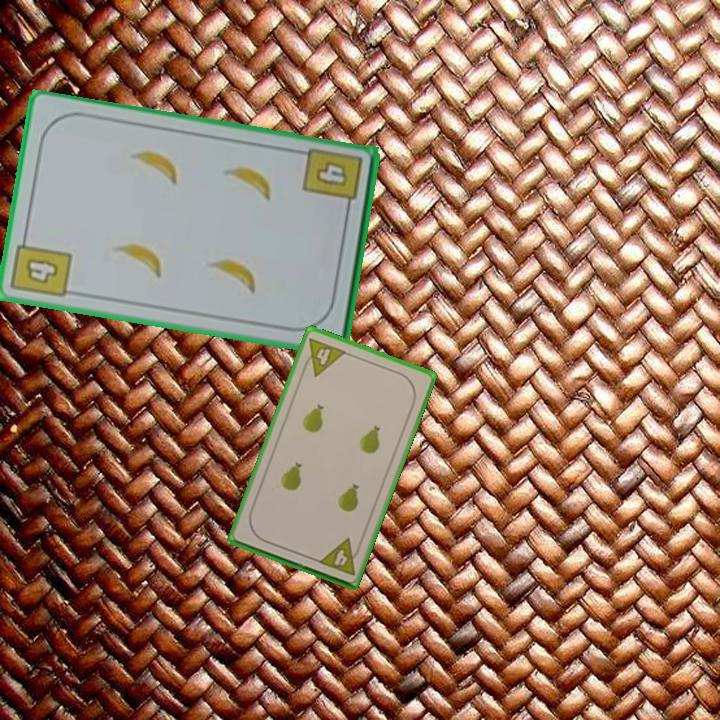4b: (7, 230, 75, 301), (299, 144, 365, 217)
4p: (298, 334, 349, 379), (314, 535, 364, 578)
